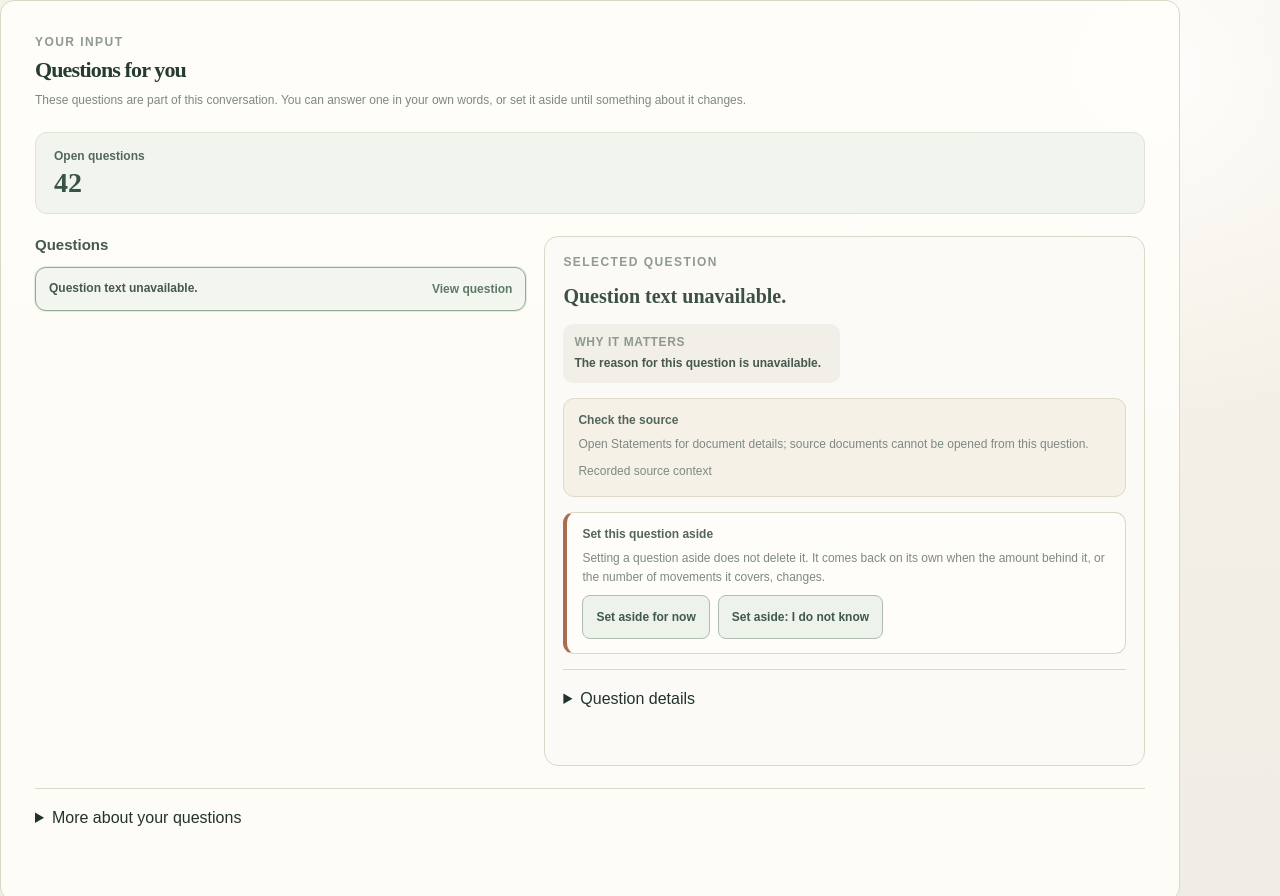
Scenario: Questions inside the conversation › keeps missing optional metadata behind details and makes the next action clear
Expected: the text "Question text unavailable." is shown, [49,282,198,296]
Expected: the text "The reason for this question is unavailable." is shown, [574,354,829,372]
Click the heading "Question details": (638, 698) [580,690,695,707]
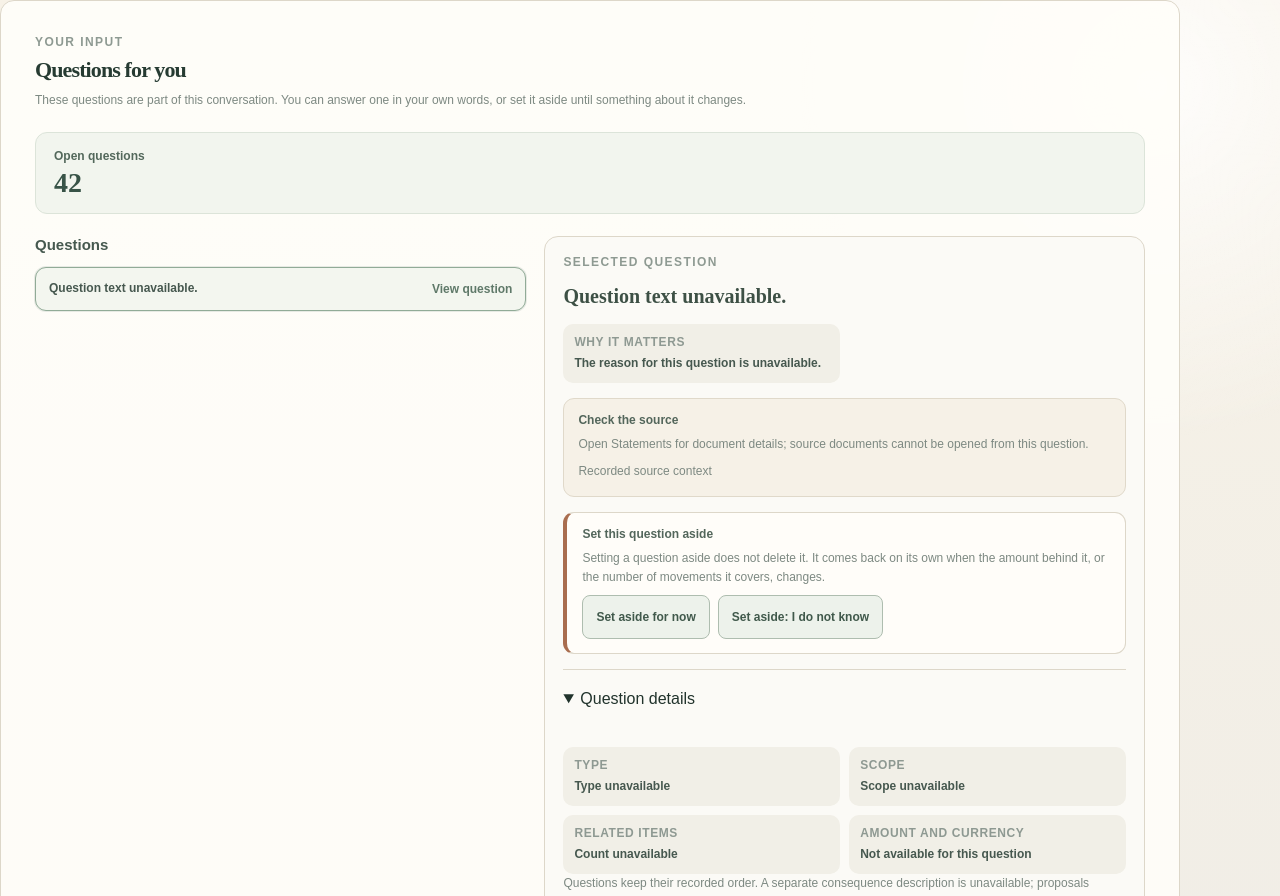
Expected: the text "Type unavailable" is shown, [574,779,670,793]
Expected: the text "Scope unavailable" is shown, [860,779,965,793]
Expected: the text "Count unavailable" is shown, [574,847,678,861]
